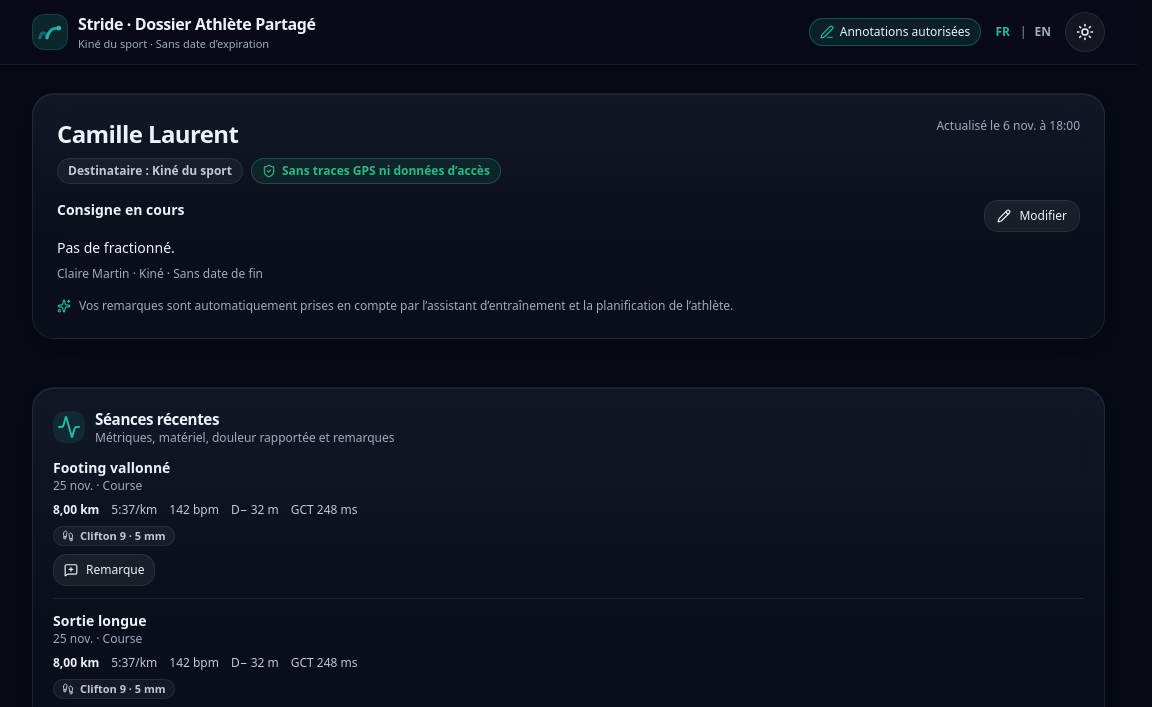
Test: Share portal (§15.1) › saves a quick remark from the mobile bottom sheet with the remembered signature
Later steps or results of the test are not shown.
Click the button "Remarque". click: (104, 570)
box: [53,554,156,586]
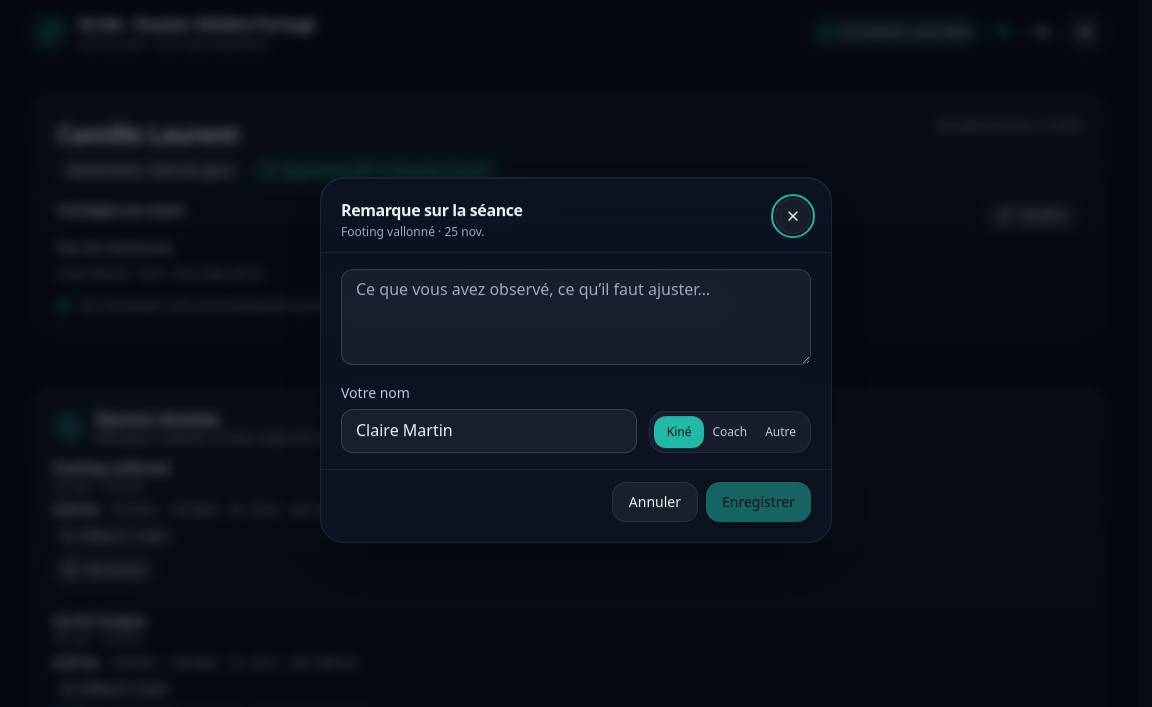
Expected: the text box with placeholder "Ce que vous avez observé, ce qu’il faut ajuster…" is shown, [341,269,811,365]
